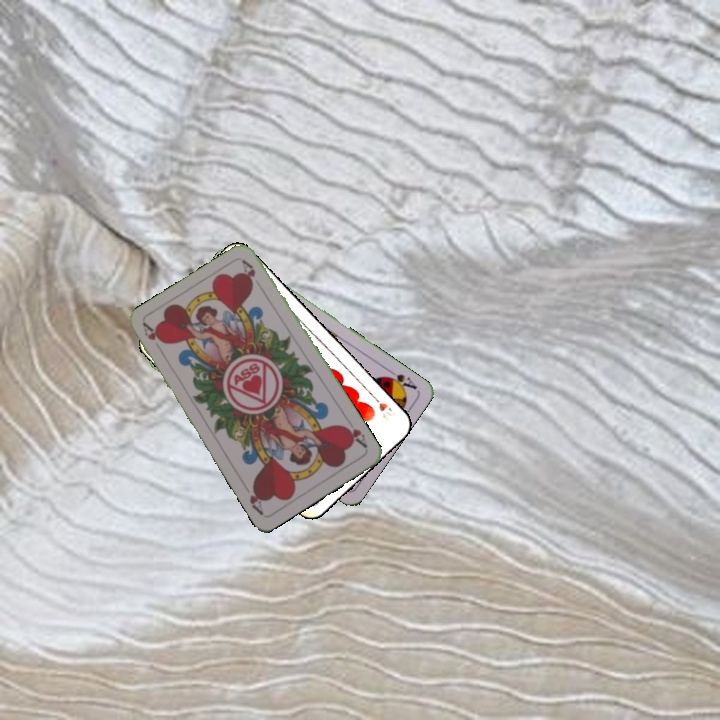H10: (367, 390, 397, 423)
HA: (339, 415, 370, 451), (139, 319, 167, 357)
SA: (380, 365, 420, 394)
